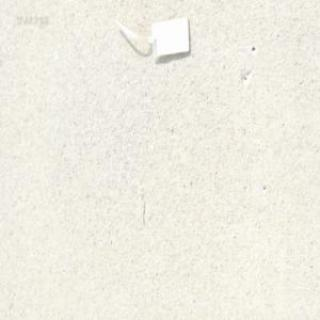LuggageTagtrack_idkeyframe: (111, 14, 190, 64)
